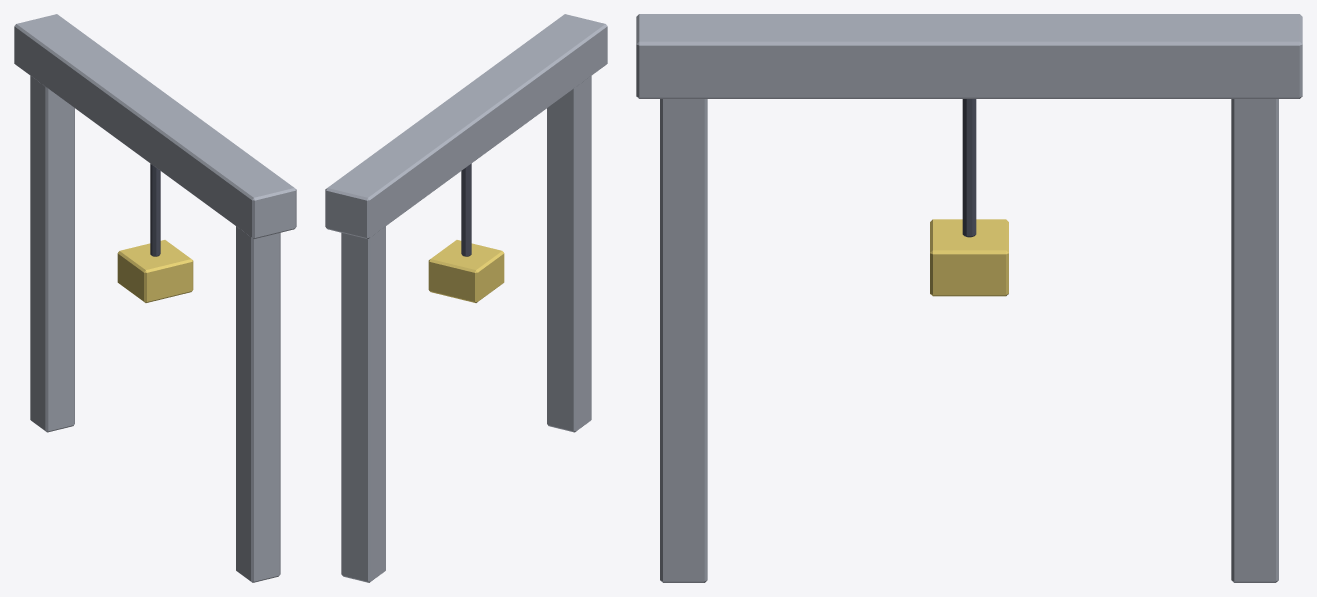
The model's file is montaj.glb.
3 views of the same model, side by side, from view 1: azimuth 30°, elevation 25°; view 2: azimuth 150°, elevation 25°; view 3: azimuth 270°, elevation 25° (orthographic). The views are drawn at different scales.
Visible parts, largest first — view 1: MontajKoprusu; view 2: MontajKoprusu; view 3: MontajKoprusu.
Part boxes in pixels (x1,y1,x2,y2): MontajKoprusu: [14, 14, 296, 582]; MontajKoprusu: [325, 14, 607, 582]; MontajKoprusu: [636, 14, 1302, 582].
Bounding box in the file's own units: 0.75 × 5.7 × 6.3.
